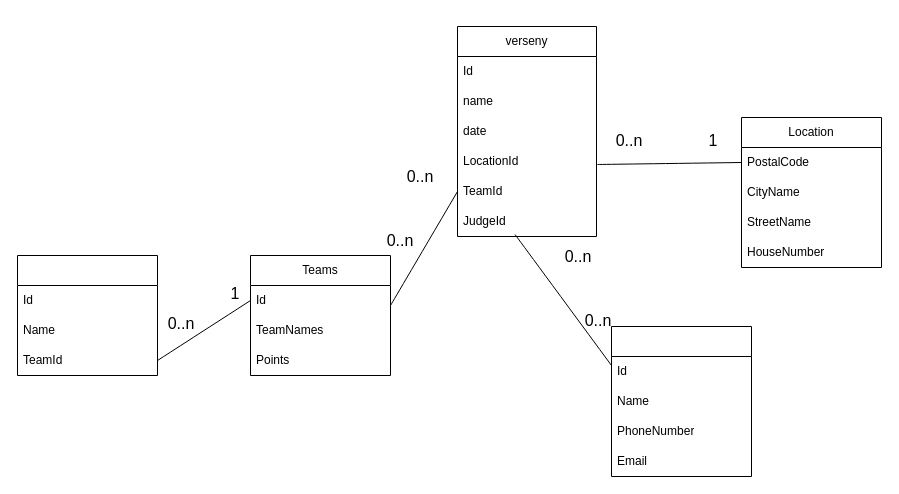
The diagram is 899 pixels wide and 494 high, and some of its shapes have lost their labels. The shapes that lost their labels are listed below. From the top down, each one's box as (x1, y1, x2, y2) in pixels, then its label:
(16, 254, 158, 376): Members
(610, 326, 752, 476): Judge
